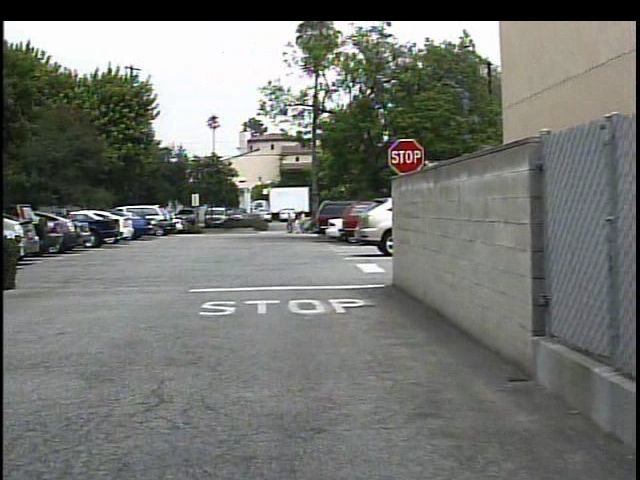person: (278, 212, 292, 238), (292, 210, 305, 236)
